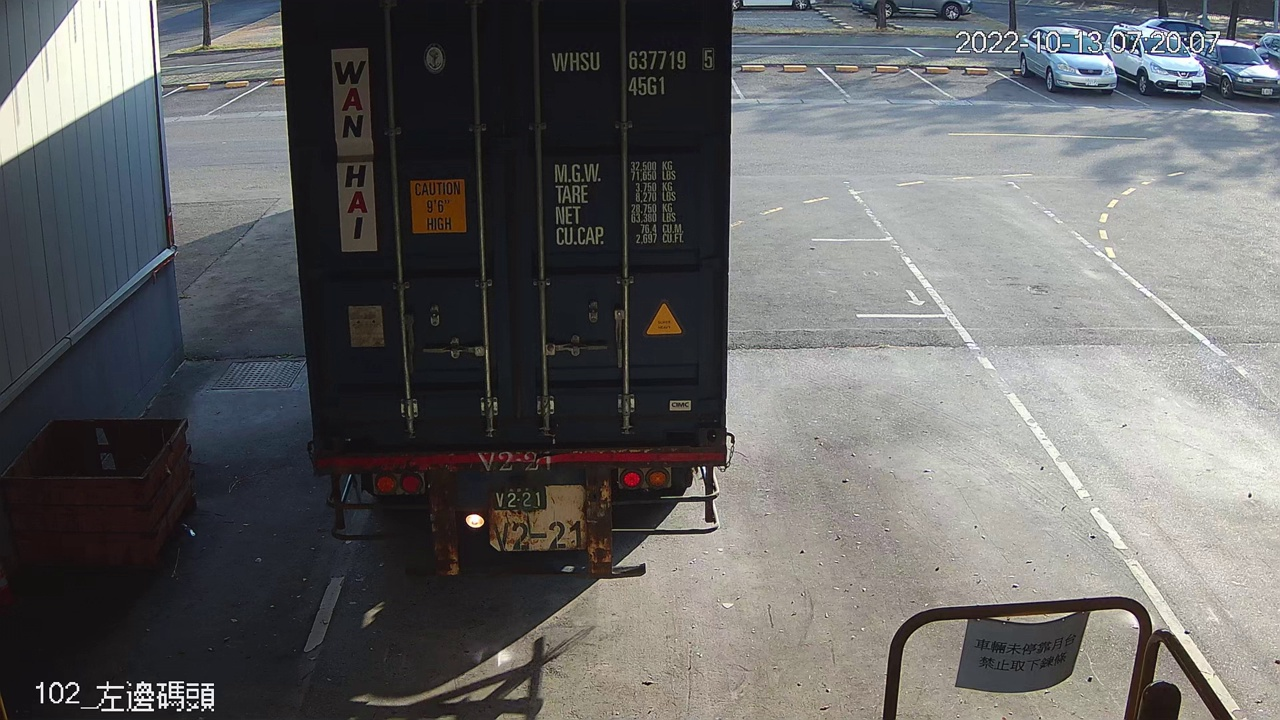container: (544, 39, 723, 102)
